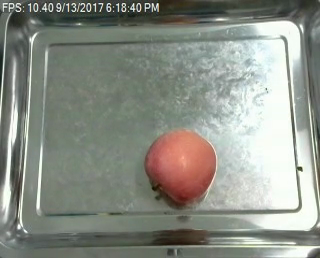Apple: (141, 127, 220, 207)
